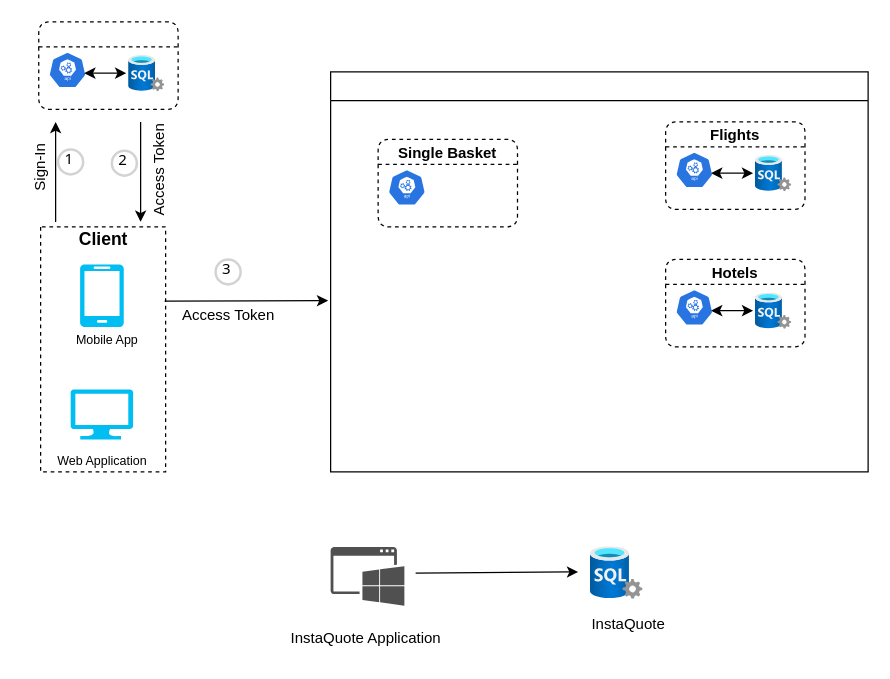
This 890x679 diagram has some shape labels left out. Each missing label, with the box of its shape:
IDP: (38, 21, 178, 109)
Online Booking Tool (OBT): (329, 71, 868, 472)
